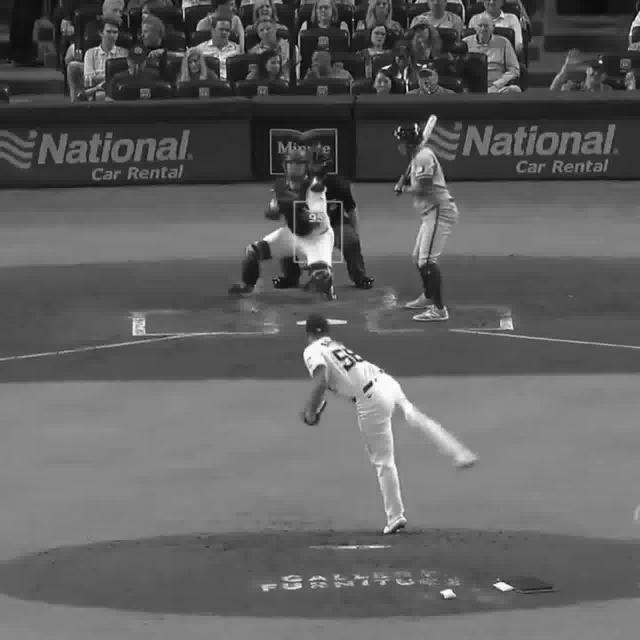base: (294, 316, 346, 328)
baseball_glove: (271, 180, 307, 220), (306, 401, 327, 423)
bat: (395, 108, 443, 194)
shoe: (384, 506, 413, 534), (416, 301, 450, 323), (405, 292, 437, 310), (228, 282, 258, 301), (314, 283, 337, 295)
